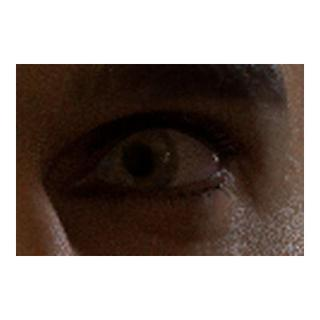pupil: (124, 146, 153, 175)
